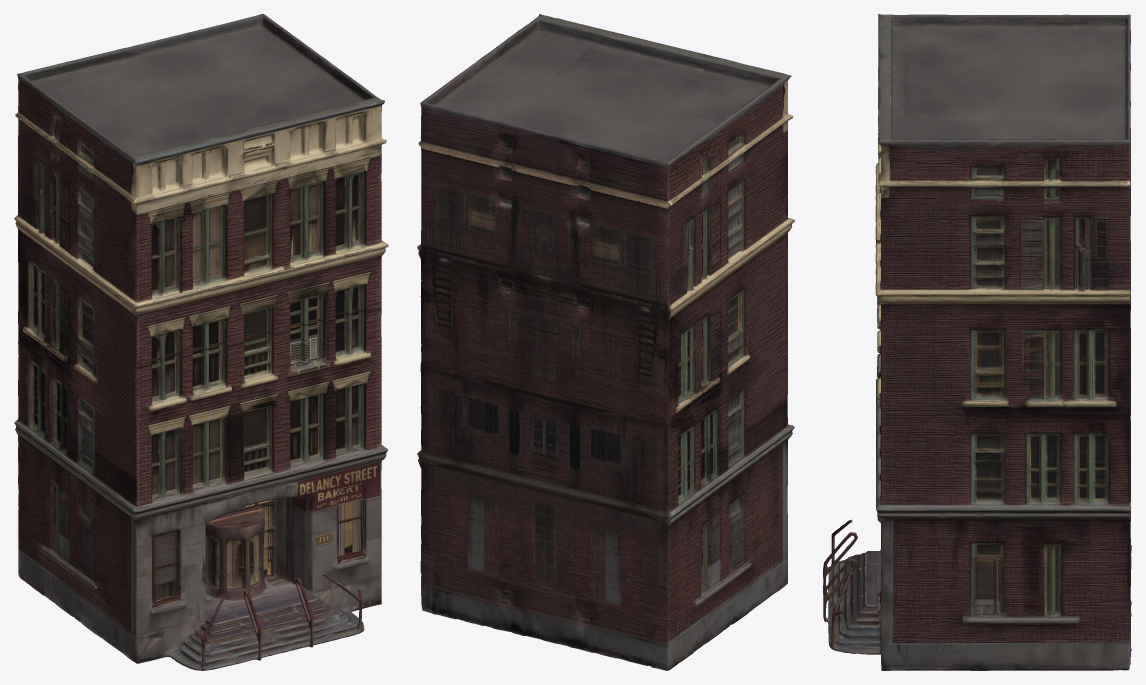
Rendered from Meshy_AI_A_New_York_City_mid_c_0420212604_texture.fbx.
The picture shows the model from 3 angles, left to right: view 1: azimuth 30°, elevation 25°; view 2: azimuth 150°, elevation 25°; view 3: azimuth 270°, elevation 25°; orthographic projection. The views are drawn at different scales.
Parts seen in each view (by area): view 1: Mesh_0; view 2: Mesh_0; view 3: Mesh_0.
Part boxes in pixels (x1,y1,x2,y2): Mesh_0: (14,14,388,670); Mesh_0: (417,14,794,670); Mesh_0: (823,14,1131,670).
Bounding box in the file's own units: 101 × 191 × 101.
1 material, 1 textured.
